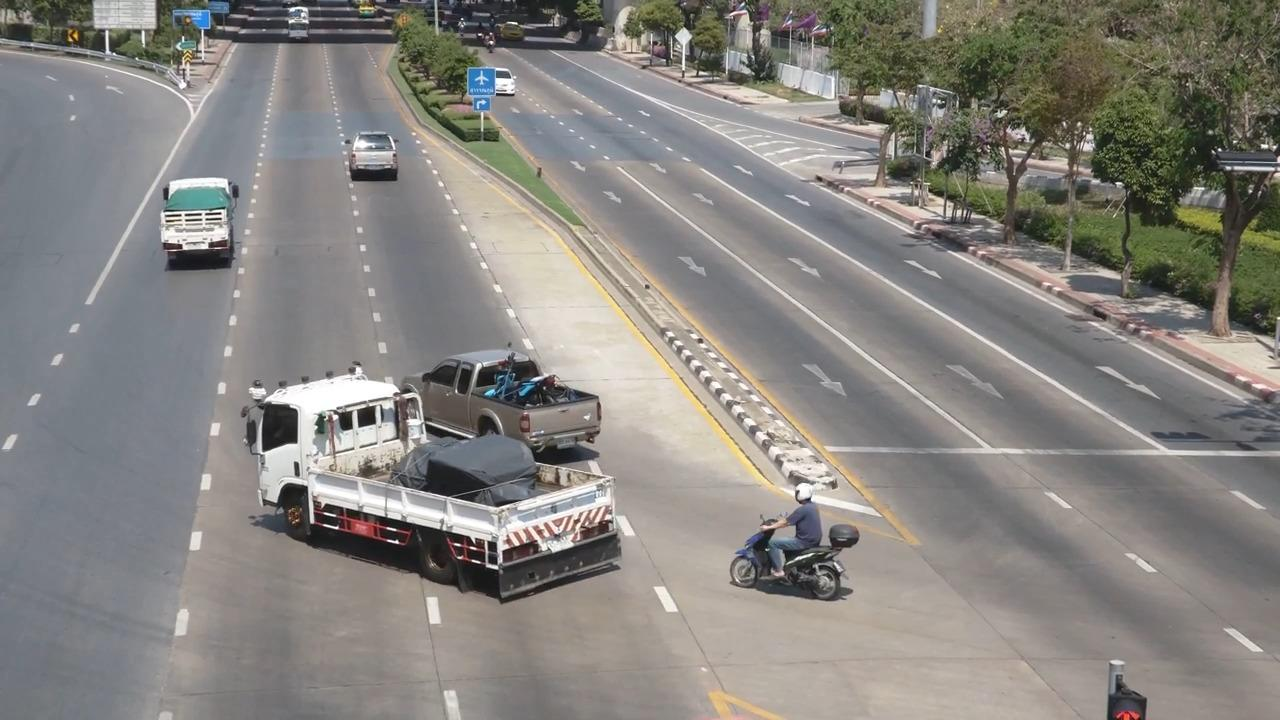CAR: (244, 369, 623, 607), (416, 339, 615, 454), (142, 157, 273, 284), (331, 114, 417, 201), (281, 3, 326, 46)
MOTOR: (711, 473, 874, 612)
